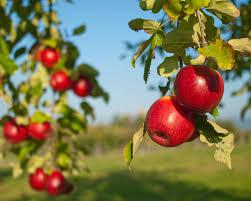apple: (149, 96, 198, 143), (178, 66, 225, 110), (51, 166, 70, 195), (5, 119, 27, 144), (24, 170, 51, 190), (29, 120, 54, 141), (73, 77, 93, 96), (42, 47, 61, 65), (52, 73, 68, 89)
